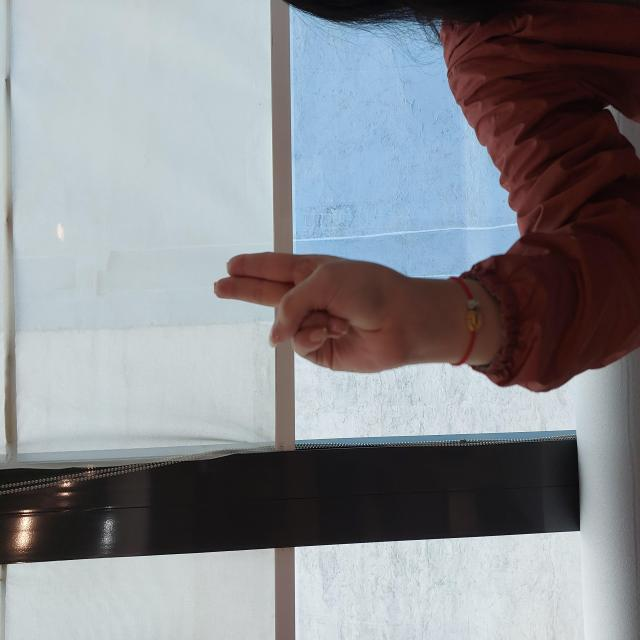U: (264, 210, 392, 422)
